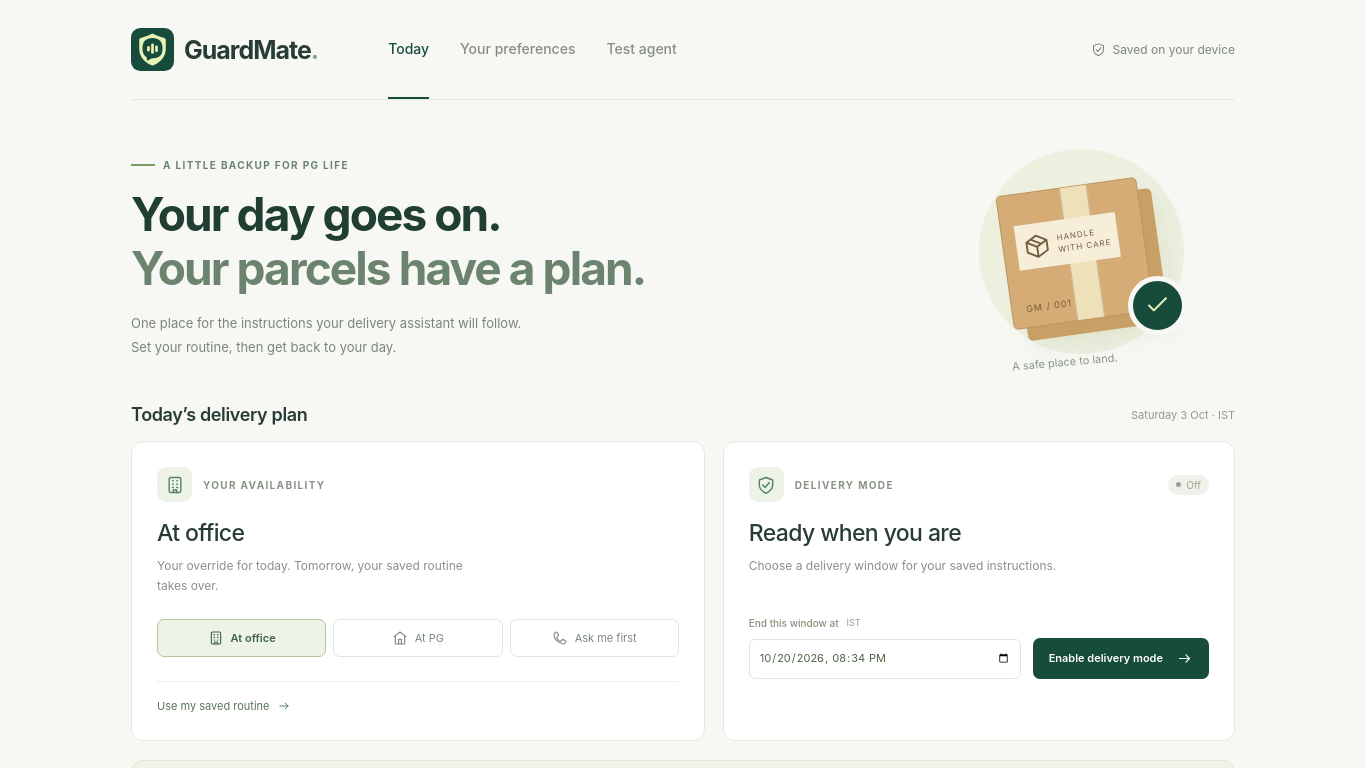
Test case: dashboard interaction isolation › retains the saved availability after a failed update and unlocks its controls
Click the button "At PG" at (418, 638), box [333, 619, 503, 657]
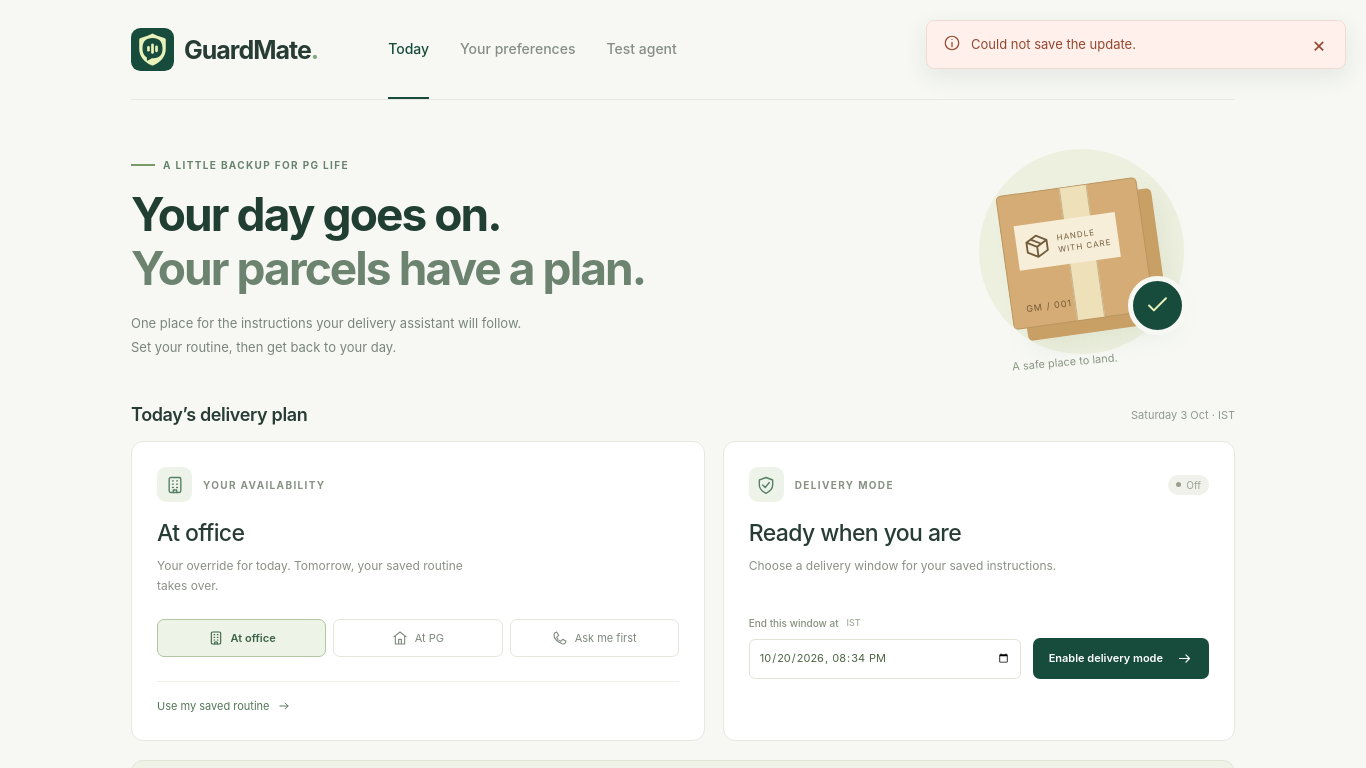
Expected: the heading "At office" is shown, [157, 519, 244, 547]
Expected: the message "Could not save the update. ×" is shown, [926, 20, 1346, 69]
